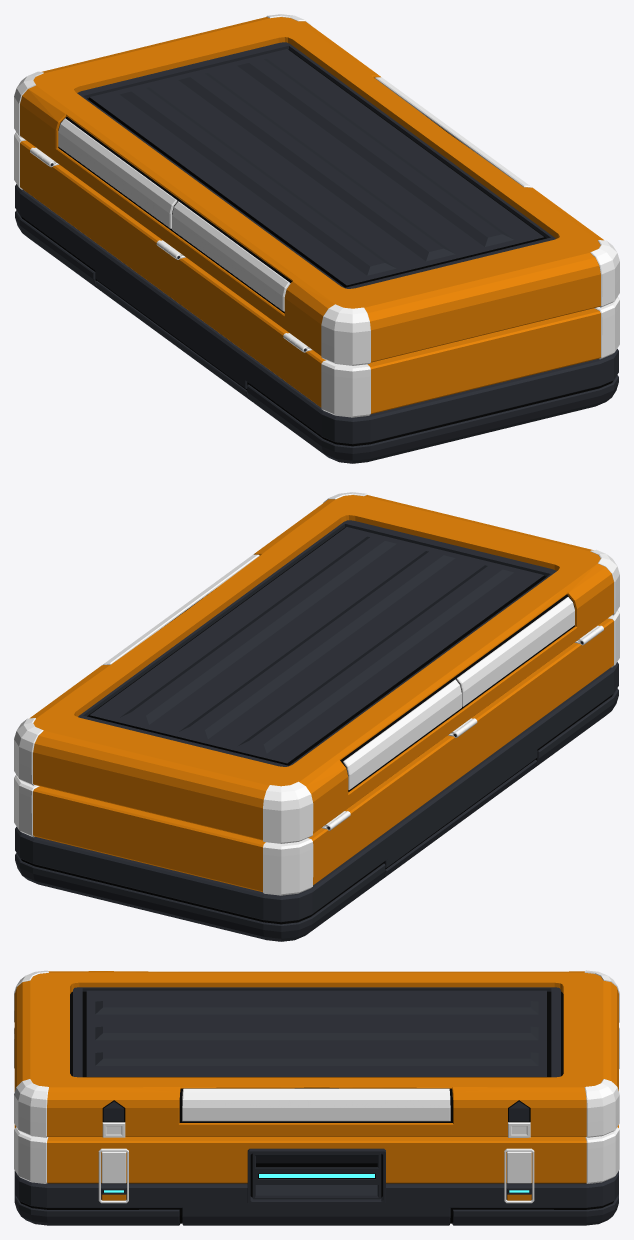
File: SM_Chest.fbx
The picture shows the model from 3 angles, top to bottom: view 1: azimuth 30°, elevation 25°; view 2: azimuth 150°, elevation 25°; view 3: azimuth 270°, elevation 25°; orthographic projection. The views are drawn at different scales.
Parts seen in each view (by area): view 1: SM_Chest_Lid, SM_Chest_Body; view 2: SM_Chest_Lid, SM_Chest_Body; view 3: SM_Chest_Lid, SM_Chest_Body.
Boxes of the visible parts, x1,y1,x2,y2 form: SM_Chest_Lid: [14, 14, 619, 365]; SM_Chest_Body: [14, 132, 619, 463]; SM_Chest_Lid: [14, 492, 619, 843]; SM_Chest_Body: [14, 610, 619, 941]; SM_Chest_Lid: [14, 970, 619, 1137]; SM_Chest_Body: [14, 1027, 619, 1225].
Bounding box in the file's own units: 41.32 × 20.13 × 80.24.
